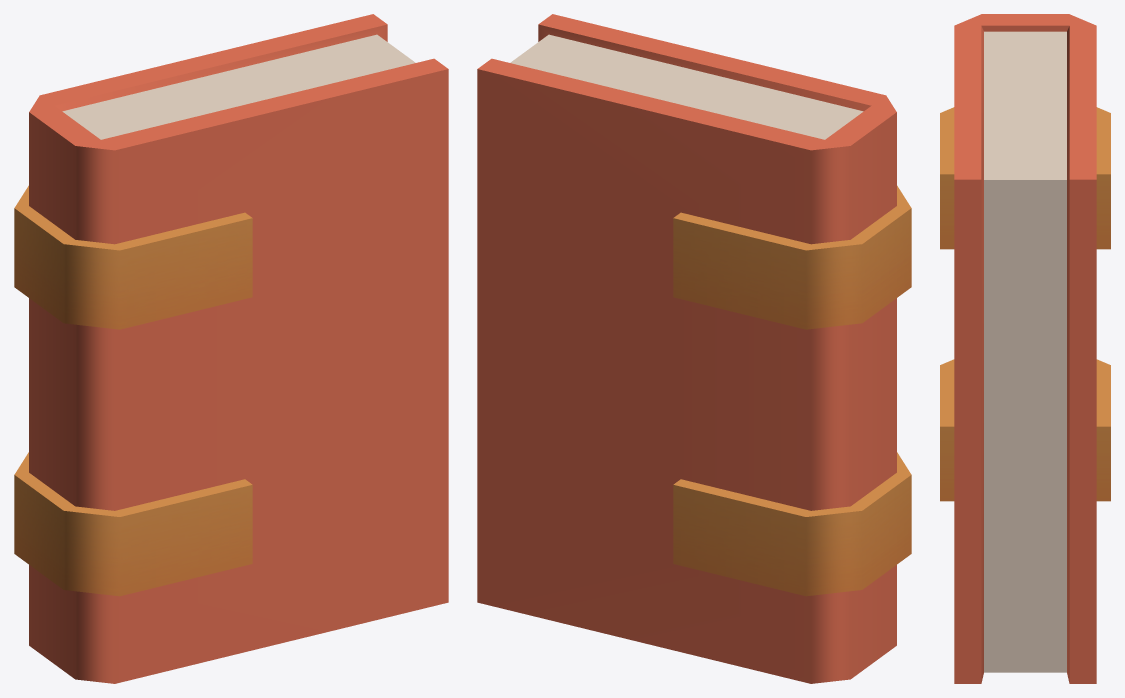
Rendered from SM_Book_4_02.fbx.
3 renders of one model, left to right at view 1: azimuth 30°, elevation 25°; view 2: azimuth 150°, elevation 25°; view 3: azimuth 270°, elevation 25°, orthographic. The views are drawn at different scales.
Visible parts, largest first — view 1: SM_Book_4_02; view 2: SM_Book_4_02; view 3: SM_Book_4_02.
Boxes of the visible parts, box(x1,y1,x2,y2) form: SM_Book_4_02: box(14, 14, 448, 683); SM_Book_4_02: box(477, 14, 911, 683); SM_Book_4_02: box(940, 14, 1110, 683).
Size of the model in its own units: 25.37 by 34.77 by 10.68.
